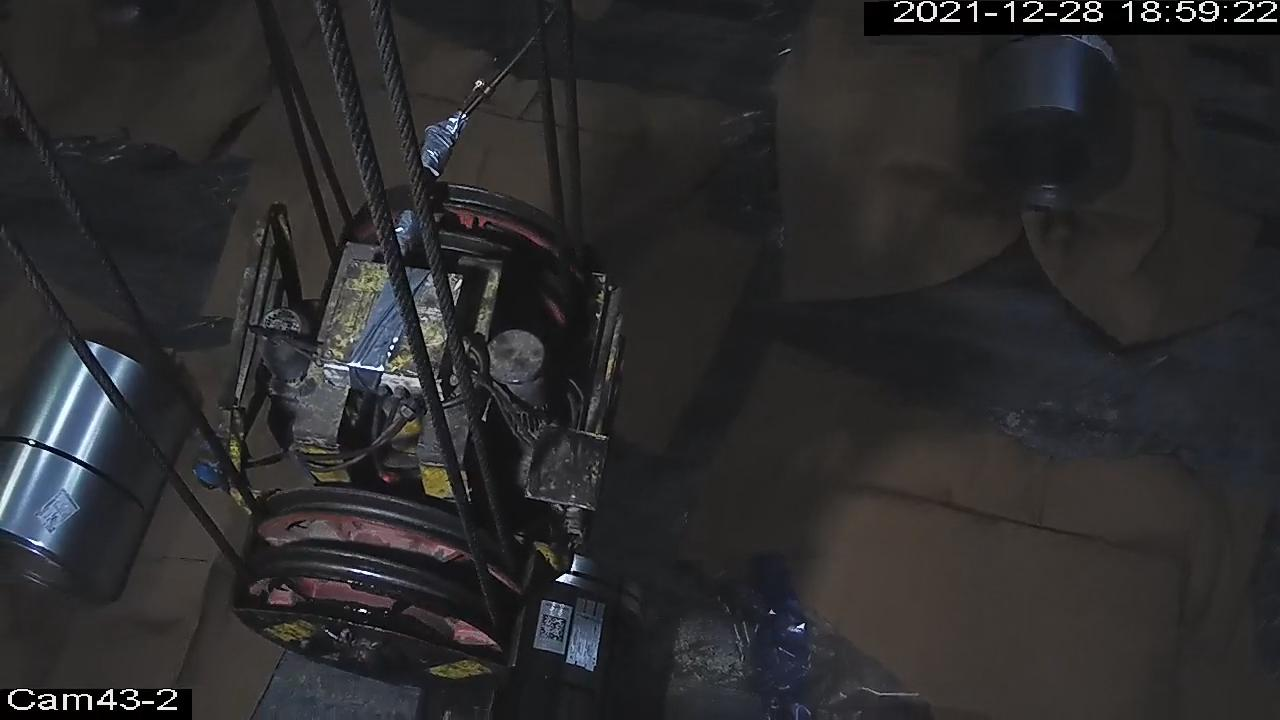data matrix: (536, 612, 570, 645)
